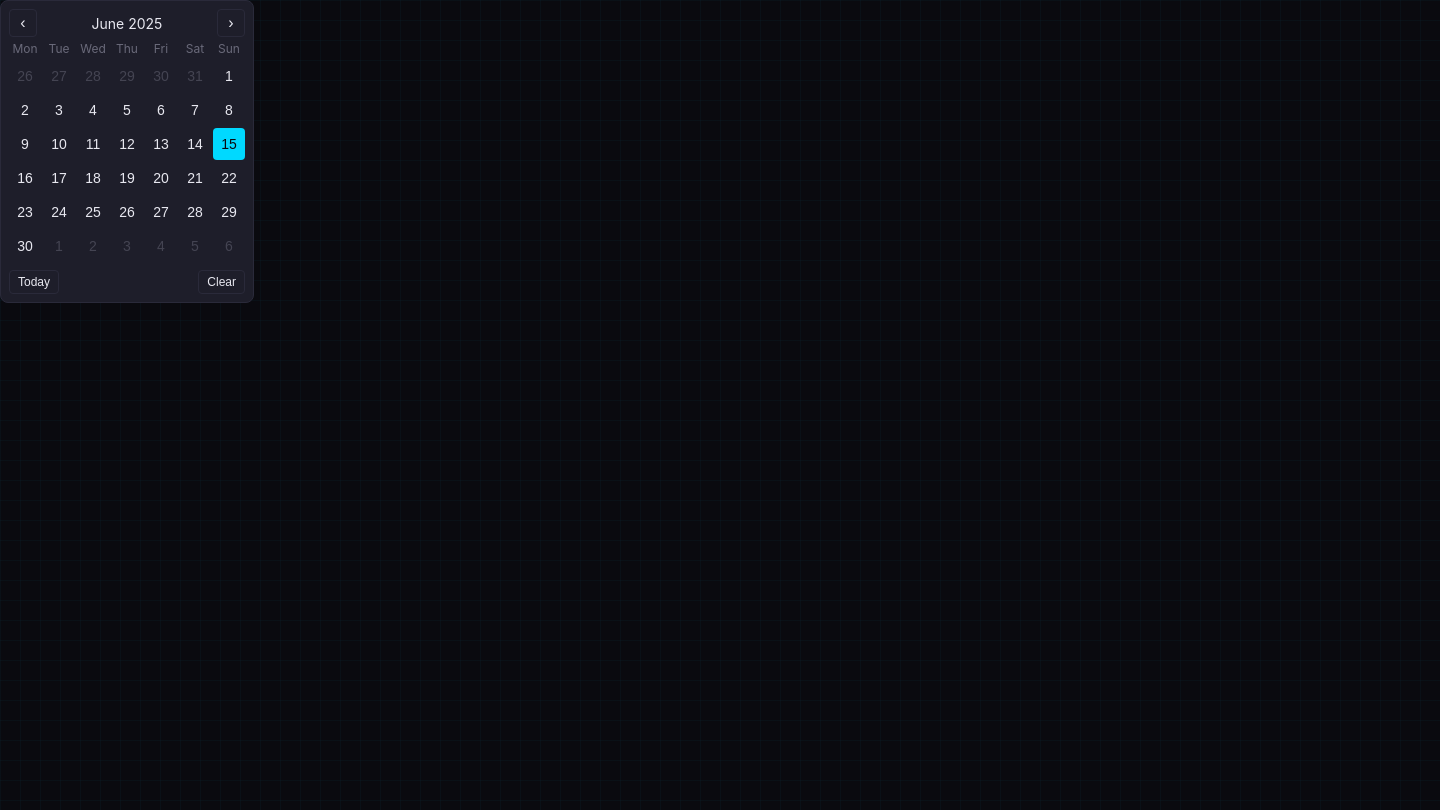
Test case: DatePicker › navigates to the previous and next month
Check: the text "June 2025" is shown, box x1=92 y1=14 x2=162 y2=32
What coordinates should you click on to do the following:
click the button named "Previous month"
I would click on:
 (23, 23)
Its box is x1=9 y1=9 x2=37 y2=37.
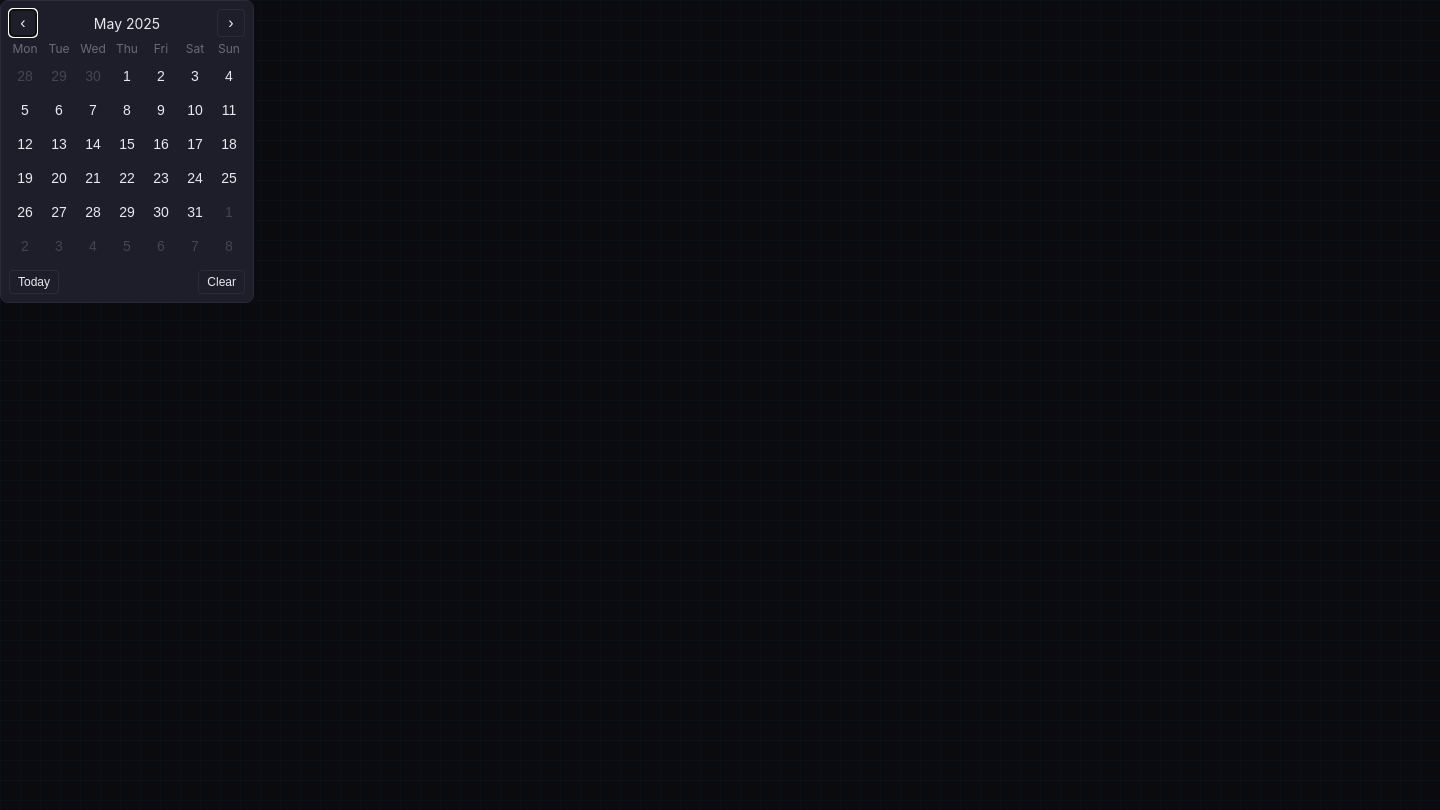
Check: the text "May 2025" is shown, box x1=94 y1=14 x2=160 y2=32
What coordinates should you click on to do the following:
click the button named "Next month"
I would click on:
 (231, 23)
Its box is x1=217 y1=9 x2=245 y2=37.
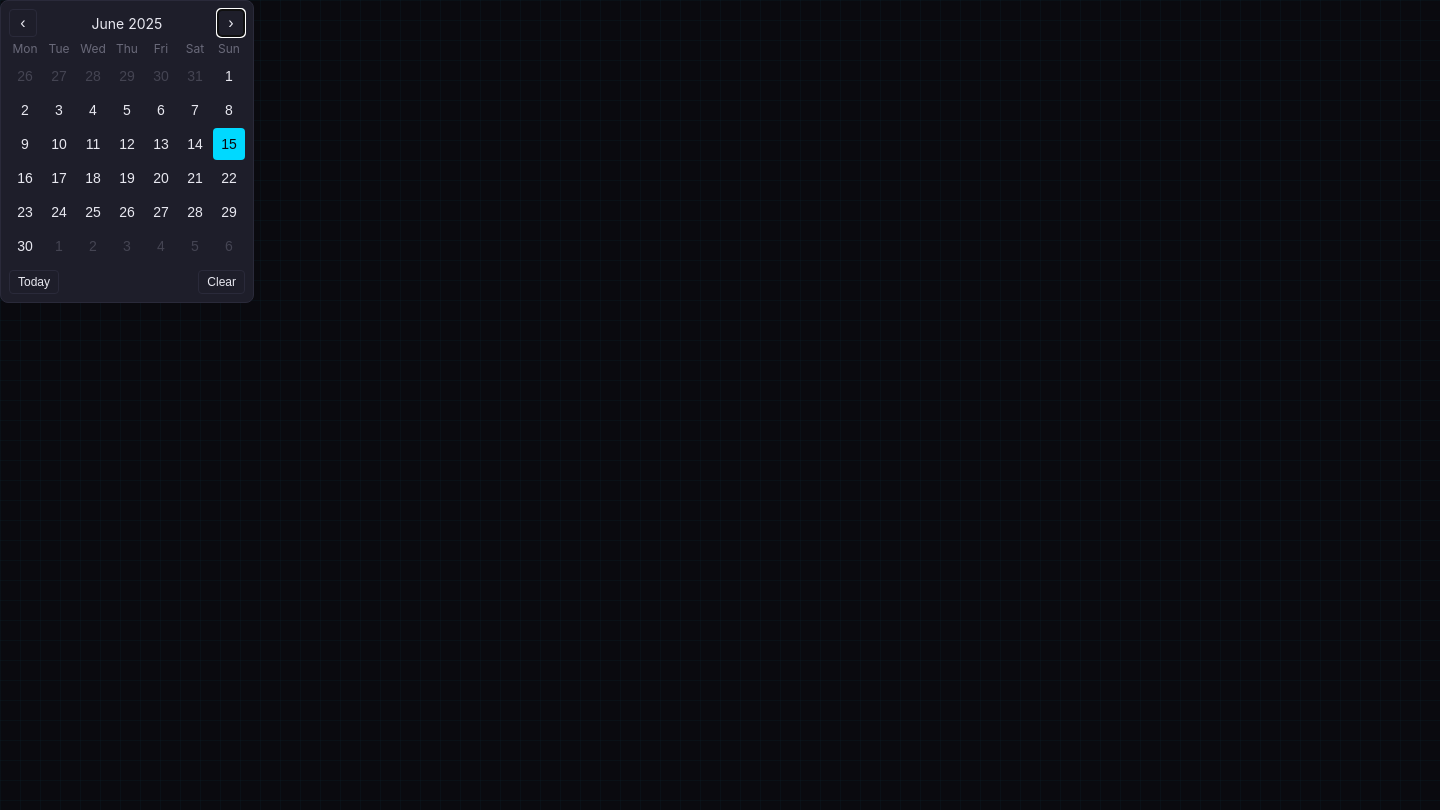
What coordinates should you click on to do the following:
click the button named "Next month"
I would click on:
 (231, 23)
Its box is x1=217 y1=9 x2=245 y2=37.
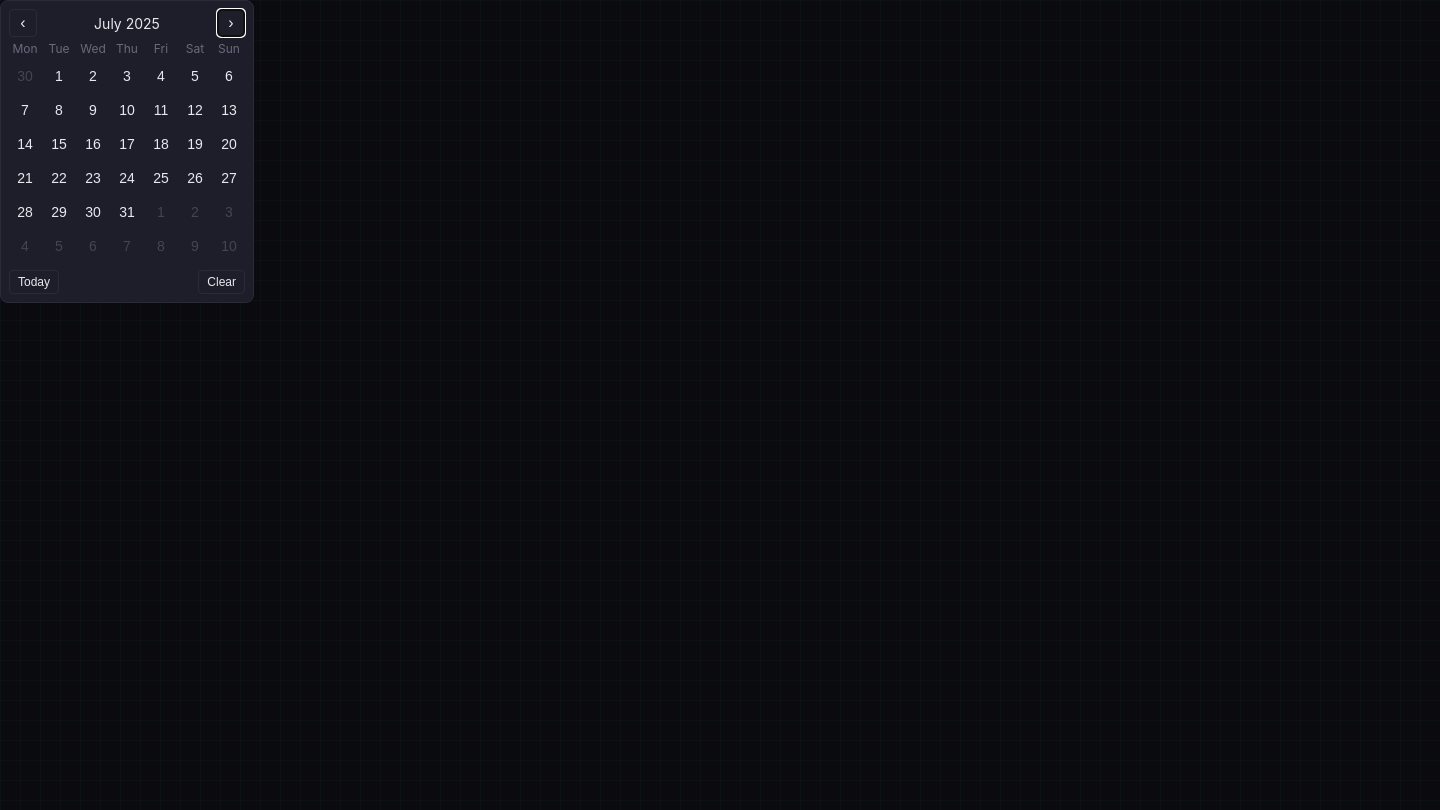
Check: the text "July 2025" is shown, box x1=94 y1=14 x2=160 y2=32
